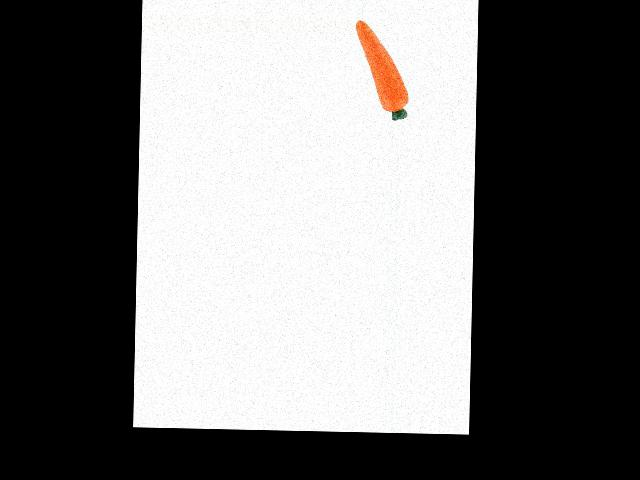carrot: (353, 20, 409, 112)
